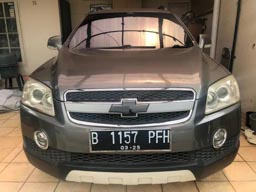plat: (90, 130, 171, 143)
